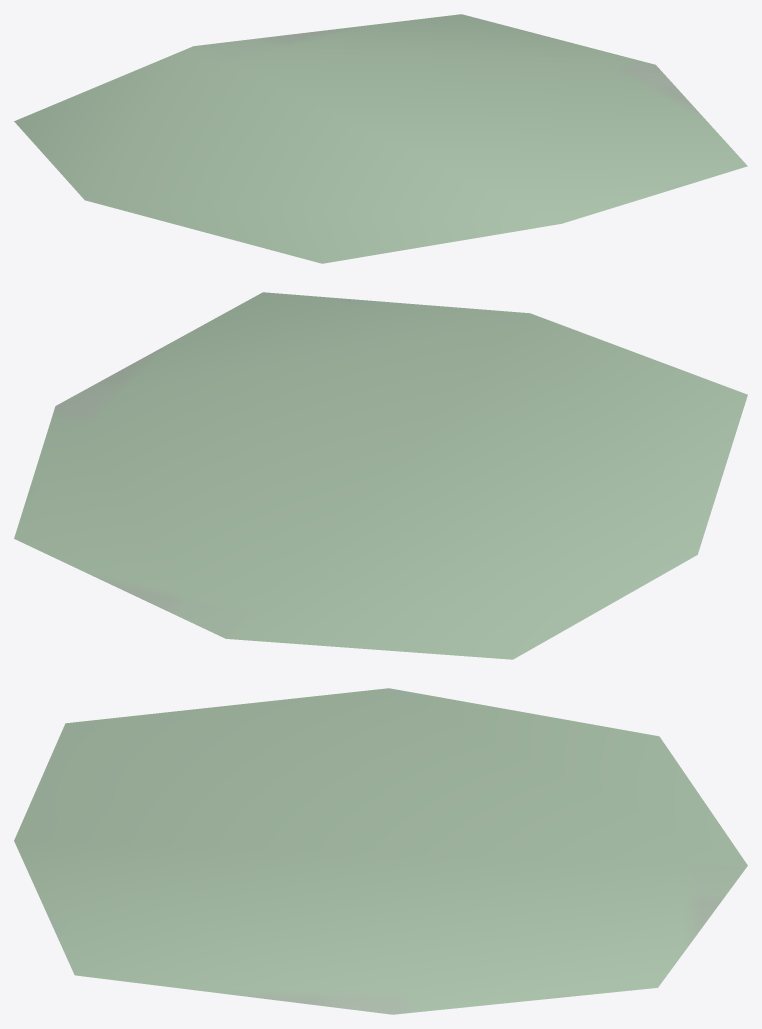
Rendered from TROLLHOLE02_HOLECAP20.fbx.
The picture shows the model from 3 angles, top to bottom: view 1: azimuth 30°, elevation 25°; view 2: azimuth 150°, elevation 25°; view 3: azimuth 270°, elevation 25°; orthographic projection. The views are drawn at different scales.
Visible parts, largest first — view 1: TROLLHOLE02_HOLECAP20; view 2: TROLLHOLE02_HOLECAP20; view 3: TROLLHOLE02_HOLECAP20.
Part boxes in pixels (x1=…): TROLLHOLE02_HOLECAP20: x1=14, y1=14, x2=747, y2=263; TROLLHOLE02_HOLECAP20: x1=14, y1=292, x2=747, y2=659; TROLLHOLE02_HOLECAP20: x1=14, y1=688, x2=747, y2=1014.
Bounding box in the file's own units: 31696 × 2384 × 30698.
1 material, 1 textured.
